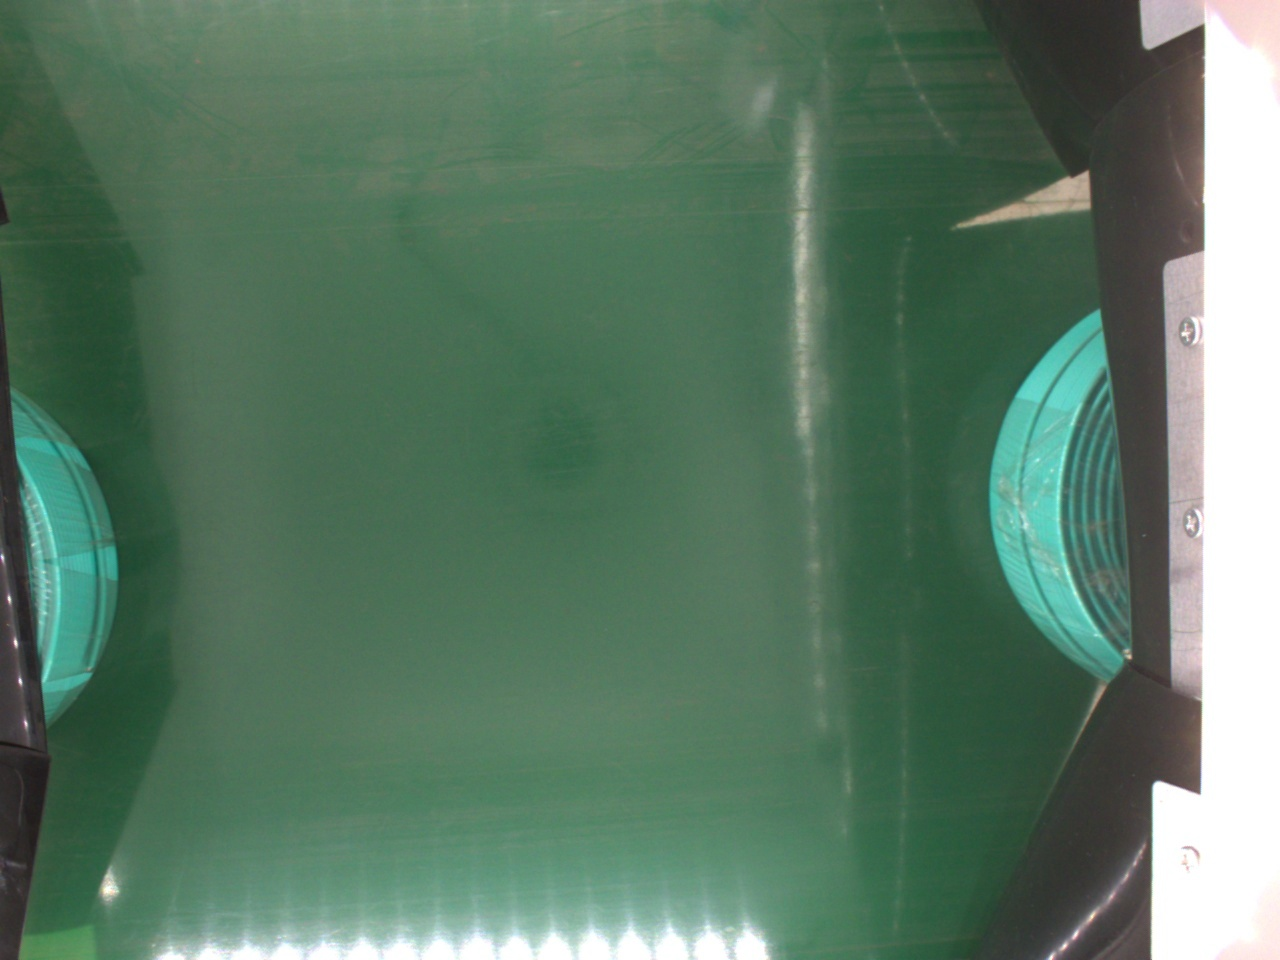green: (988, 309, 1139, 679), (7, 388, 126, 713)
